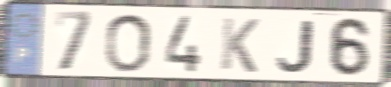4: (164, 14, 202, 75)
6: (329, 15, 373, 80)
7: (53, 9, 93, 75)
J: (275, 19, 314, 74)
K: (218, 16, 262, 75)
O: (102, 12, 154, 74)
